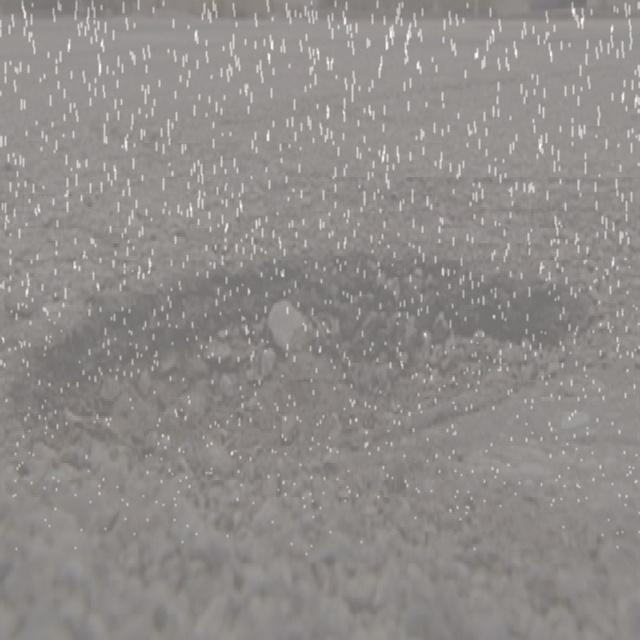Pothole: (13, 227, 628, 483)
